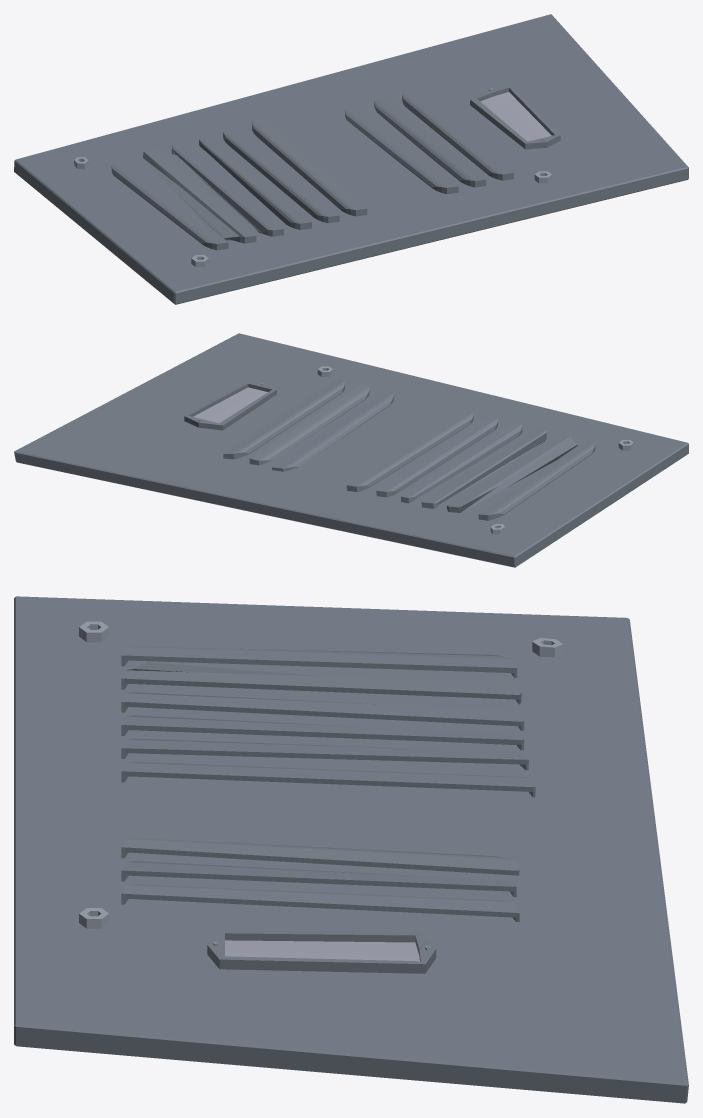
The model's file is Board01_011.fbx.
The picture shows the model from 3 angles, top to bottom: view 1: azimuth 30°, elevation 25°; view 2: azimuth 150°, elevation 25°; view 3: azimuth 270°, elevation 25°; orthographic projection. The views are drawn at different scales.
Visible parts, largest first — view 1: Board01.011; view 2: Board01.011; view 3: Board01.011.
Boxes of the visible parts, x1,y1,x2,y2 form: Board01.011: (14,14,688,304); Board01.011: (14,333,688,567); Board01.011: (14,596,688,1103).
Size of the model in its own units: 1.66 by 0.073 by 0.9856.
